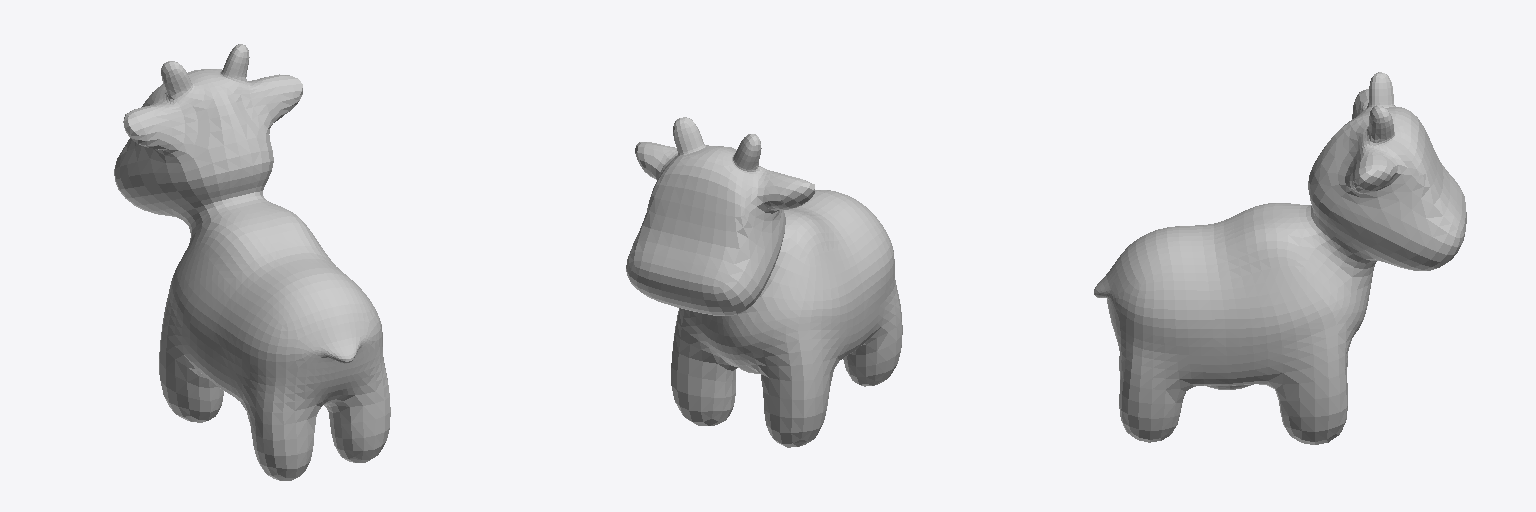
Rendered from spot_triangulated.obj.
3 views of the same model, side by side, from view 1: azimuth 30°, elevation 25°; view 2: azimuth 150°, elevation 25°; view 3: azimuth 270°, elevation 25° (orthographic).
Bounding box in the file's own units: 0.9431 × 1.69 × 1.72.